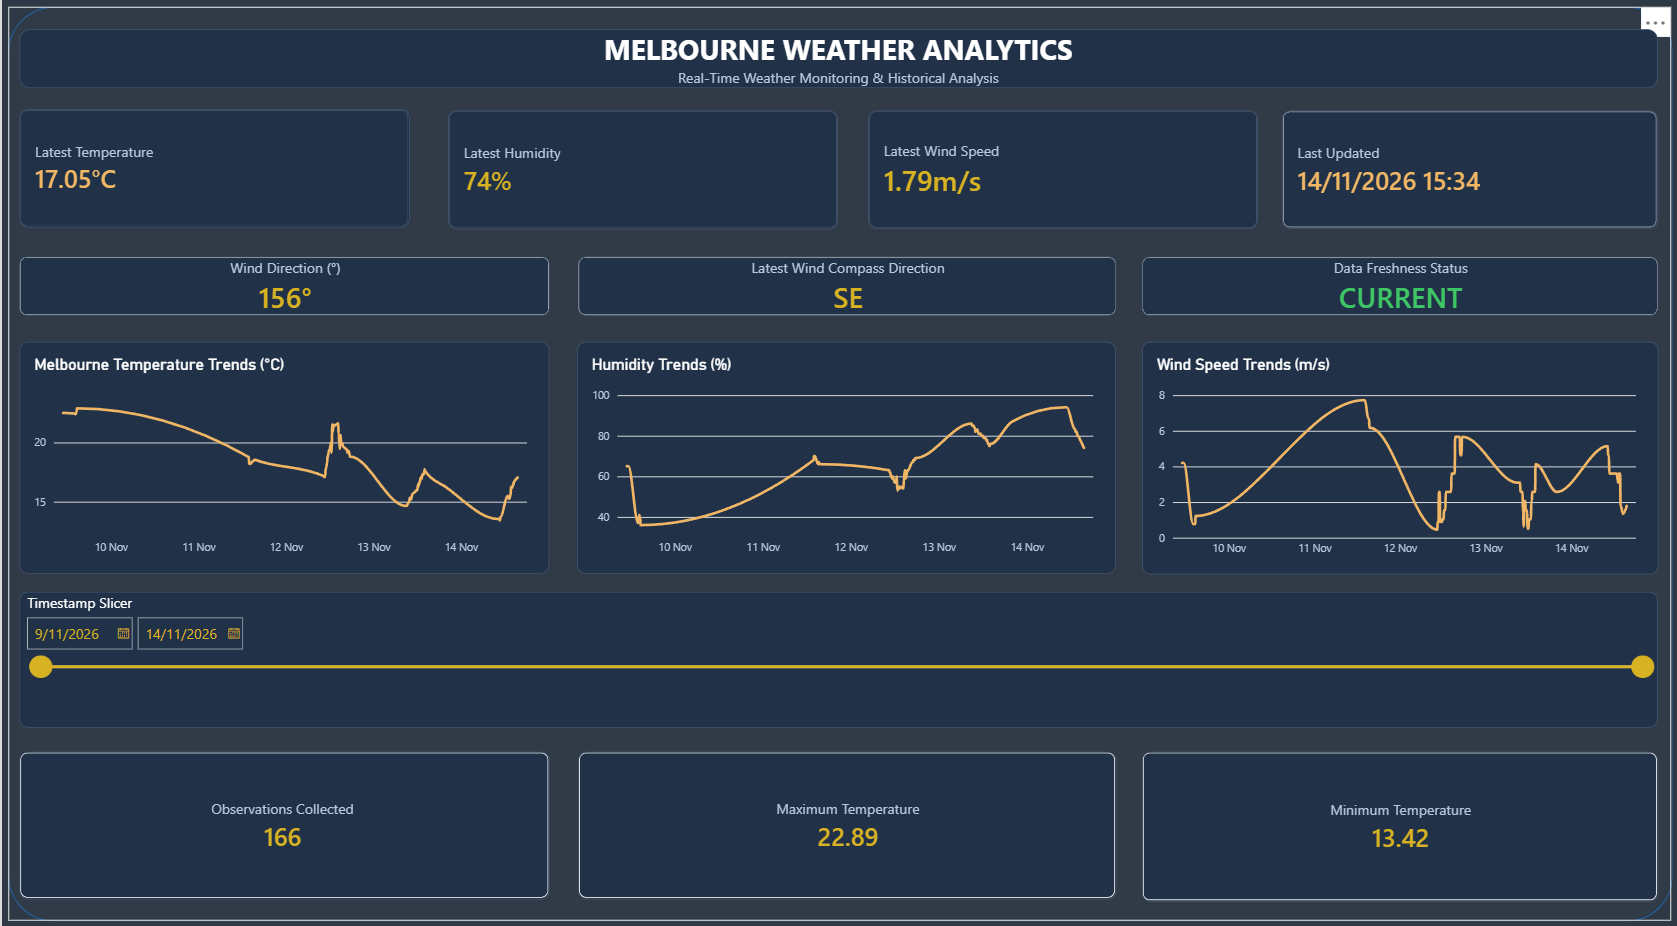

This screenshot's page, from the dashboard's own definition file:
{"tool":"powerbi","page":{"name":"Page 1","canvas":[1920,1080],"ordinal":0},"visuals":[{"type":"shape","box":[6.9,20.7,1900.3,1044.4],"z":0},{"type":"lineChart","title":"Melbourne Temperature Trends  (°C)","fields":{"Category":["WeatherObservations.Timestamp"],"Y":["Avg(WeatherObservations.Temperature_Celsius)"]},"box":[20.7,403.3,605,265],"z":1000},{"type":"lineChart","title":"Humidity Trends (%)","fields":{"Category":["WeatherObservations.Timestamp"],"Y":["Avg(WeatherObservations.Humidity_Percent)"]},"box":[656.6,404.2,615,265],"z":2000},{"type":"lineChart","title":"Wind Speed Trends (m/s)","fields":{"Category":["WeatherObservations.Timestamp"],"Y":["Avg(WeatherObservations.Wind_Speed_mps)"]},"box":[1301.1,403.3,589.6,265.5],"z":3000},{"type":"cardVisual","fields":{"Data":["WeatherObservations.Latest Humidity"]},"box":[509,140,445,135.7],"z":4000},{"type":"cardVisual","fields":{"Data":["WeatherObservations.Latest Temperature"]},"box":[20.7,137.7,445.6,135],"z":5000},{"type":"cardVisual","fields":{"Data":["WeatherObservations.Latest Wind Speed"]},"box":[988.3,140,445,135],"z":6000},{"type":"slicer","fields":{"Values":["WeatherObservations.Timestamp"]},"box":[20.7,689.1,1870.1,155.3],"z":7000},{"type":"cardVisual","fields":{"Data":["WeatherObservations.Last Updated"]},"box":[1460.9,140,429.8,135],"z":8000},{"type":"cardVisual","fields":{"Data":["WeatherObservation.Minimum Temperature"]},"box":[1301.1,871.3,589.6,171],"z":9000},{"type":"cardVisual","fields":{"Data":["WeatherObservation.Maximum Temperature"]},"box":[657.5,871.3,614.4,168.8],"z":10000},{"type":"cardVisual","fields":{"Data":["WeatherObservation.Observations Collected"]},"box":[20.7,871.3,605.4,168.8],"z":11000},{"type":"textbox","box":[20.7,47.7,1870.1,67.5],"z":12000},{"type":"cardVisual","fields":{"Data":["WeatherObservation.Data Freshness Status"]},"box":[1301.1,306.5,589.6,67.5],"z":13000},{"type":"cardVisual","fields":{"Data":["WeatherObservation.Latest Wind Compass Direction"]},"box":[657.5,306.5,614.4,67.5],"z":14000},{"type":"cardVisual","fields":{"Data":["WeatherObservation.Wind Direction Display"]},"box":[20.7,306.5,605.4,67.5],"z":15000}]}

Visuals, with their boxes in screenshot pixels (x1, y1, x2, y2), scaled from the page's 1920x1080 canvas onto the 1677x926 screenshot:
shape: 6:18:1666:913
"Melbourne Temperature Trends  (°C)" lineChart: 18:346:547:573
"Humidity Trends (%)" lineChart: 573:347:1111:574
"Wind Speed Trends (m/s)" lineChart: 1136:346:1651:573
cardVisual - WeatherObservations.Latest Humidity: 445:120:833:236
cardVisual - WeatherObservations.Latest Temperature: 18:118:407:234
cardVisual - WeatherObservations.Latest Wind Speed: 863:120:1252:236
slicer - WeatherObservations.Timestamp: 18:591:1651:724
cardVisual - WeatherObservations.Last Updated: 1276:120:1651:236
cardVisual - WeatherObservation.Minimum Temperature: 1136:747:1651:894
cardVisual - WeatherObservation.Maximum Temperature: 574:747:1111:892
cardVisual - WeatherObservation.Observations Collected: 18:747:547:892
textbox: 18:41:1651:99
cardVisual - WeatherObservation.Data Freshness Status: 1136:263:1651:321
cardVisual - WeatherObservation.Latest Wind Compass Direction: 574:263:1111:321
cardVisual - WeatherObservation.Wind Direction Display: 18:263:547:321
